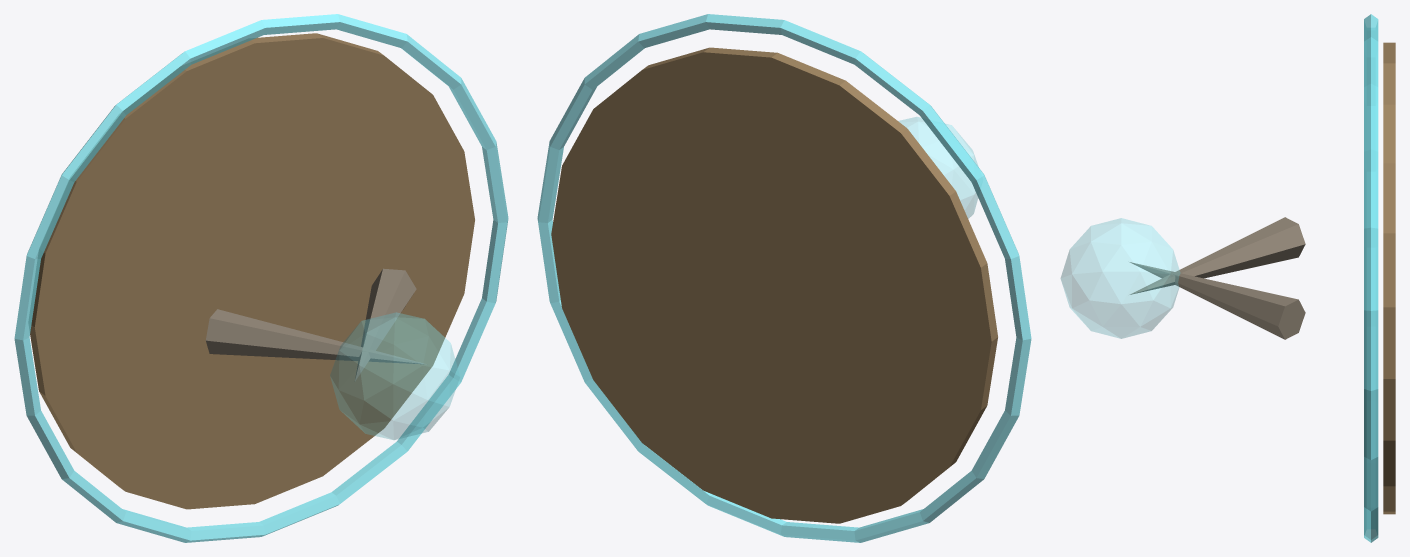
Rendered from 07_weather_terrain_nature_effect.glb.
The picture shows the model from 3 angles, left to right: view 1: azimuth 30°, elevation 25°; view 2: azimuth 150°, elevation 25°; view 3: azimuth 270°, elevation 25°; orthographic projection. The views are drawn at different scales.
Visible parts, largest first — view 1: terrain_patch, weather_boundary, weather_orb, root_spike_l, root_spike_r; view 2: terrain_patch, weather_boundary, weather_orb; view 3: weather_orb, weather_boundary, terrain_patch, root_spike_r, root_spike_l.
Boxes of the visible parts, <box> form: terrain_patch: <box>29,33,474,509</box>; weather_boundary: <box>14,14,508,542</box>; weather_orb: <box>330,312,459,439</box>; root_spike_l: <box>205,309,425,364</box>; root_spike_r: <box>354,268,416,381</box>; terrain_patch: <box>551,47,997,523</box>; weather_boundary: <box>537,14,1031,542</box>; weather_orb: <box>898,117,978,218</box>; weather_orb: <box>1060,218,1180,338</box>; weather_boundary: <box>1364,14,1378,542</box>; terrain_patch: <box>1383,42,1395,514</box>; root_spike_r: <box>1130,262,1305,339</box>; root_spike_l: <box>1130,217,1305,294</box>.
Size of the model in its own units: 1.75 by 1.75 by 1.1.
